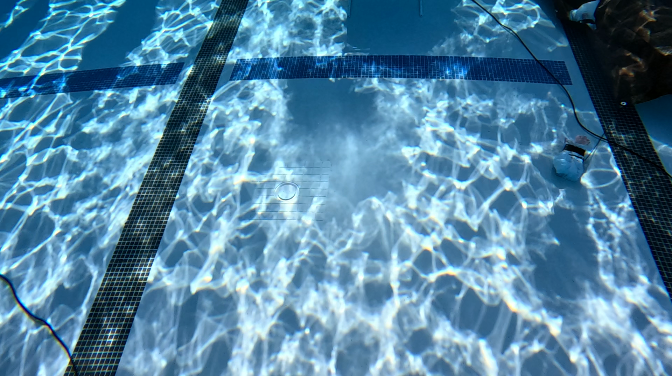sandbag: (565, 0, 671, 108)
